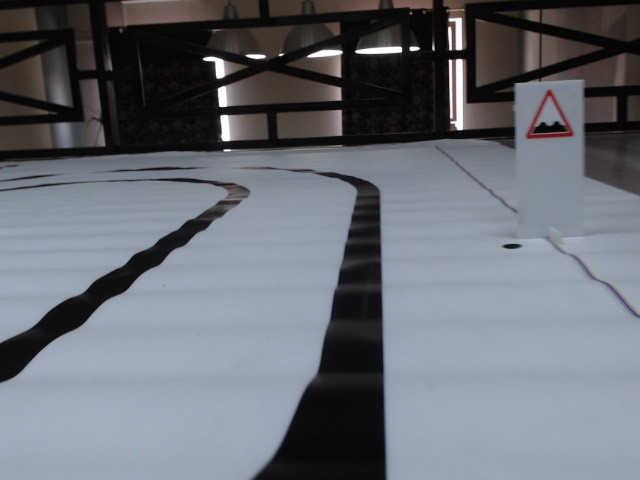Nerov: (524, 89, 577, 142)
